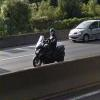Motorcycle: (27, 30, 69, 75)
